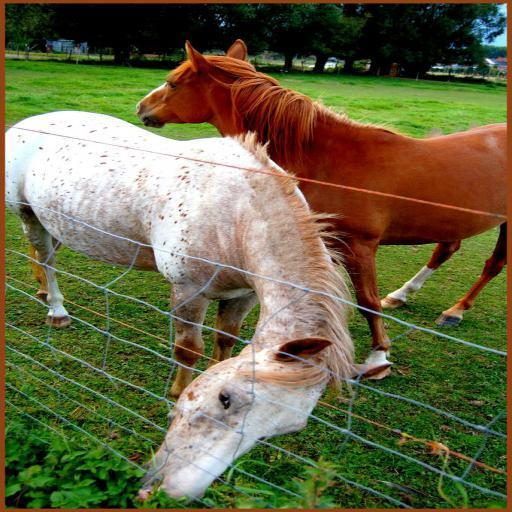horse: (0, 110, 391, 507), (136, 38, 512, 326)
